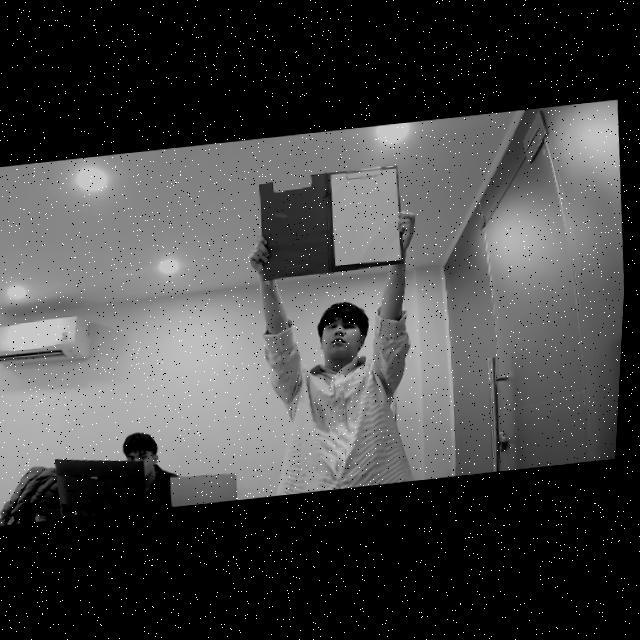face: (320, 314, 362, 361)
